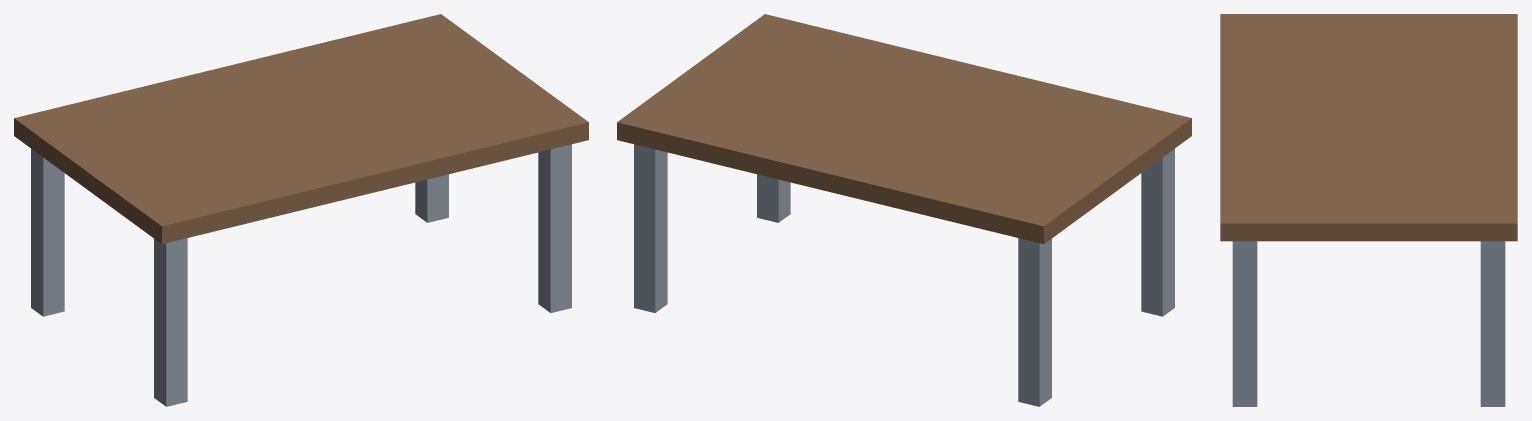
Rendered from coffee-table.glb.
3 renders of one model, left to right at view 1: azimuth 30°, elevation 25°; view 2: azimuth 150°, elevation 25°; view 3: azimuth 270°, elevation 25°, orthographic.
Visible parts, largest first — view 1: coffee table; view 2: coffee table; view 3: coffee table.
Part boxes in pixels (x1,y1,x2,y2): coffee table: [14, 14, 588, 406]; coffee table: [617, 14, 1191, 406]; coffee table: [1220, 14, 1517, 406].
Bounding box in the file's own units: 1 × 0.42 × 0.6.
